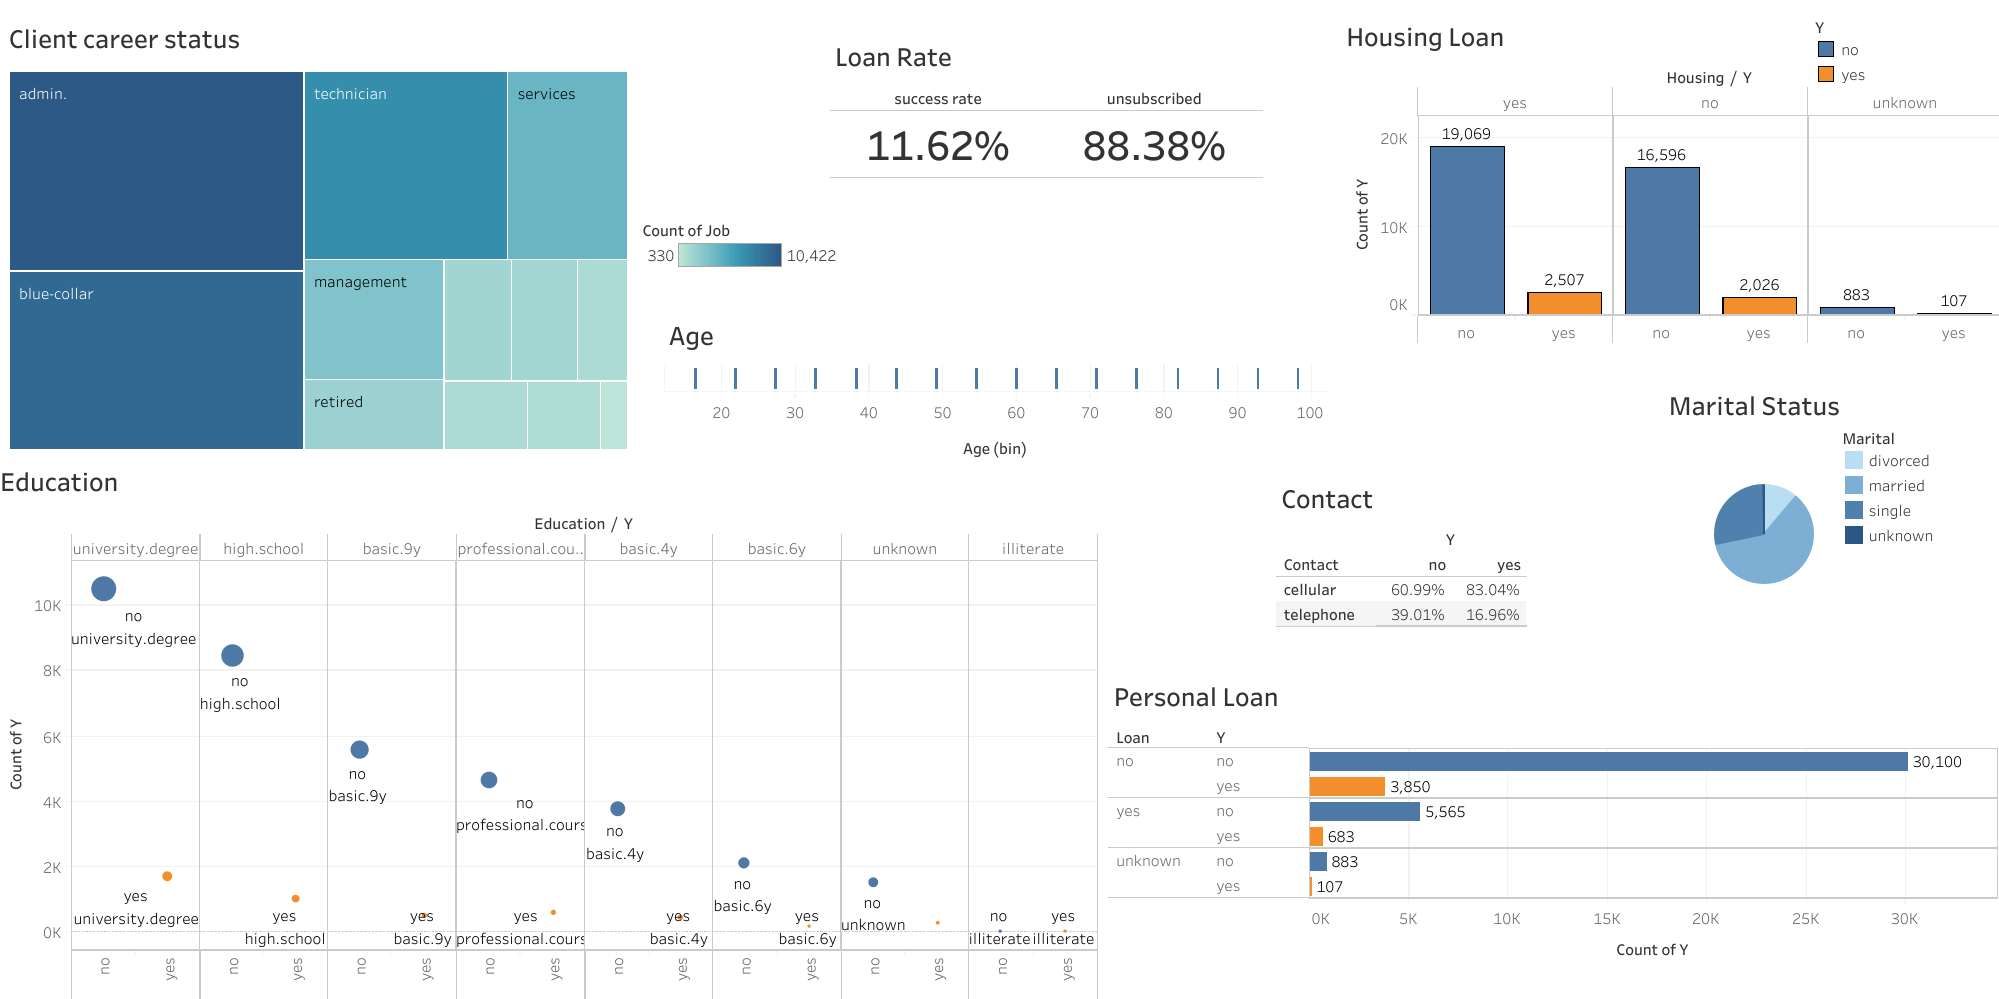

The page's visual inventory and layout, read from the dashboard file:
{"tool":"tableau","page":{"name":"Dashboard 1","canvas":[1600,800],"ordinal":0},"visuals":[{"type":"worksheet","title":"Sheet 1","mark":"Bar","rows":["y"],"cols":["housing","y"],"box":[1073,9,530,266]},{"type":"worksheet","title":"jobs","mark":"Automatic","box":[3,10,641,355]},{"type":"legend","title":"Sheet 1","param":"[federated.1gof4120ka4hed14km9ko1v4rcbb].[none:y:nk]","box":[1451,10,140,64]},{"type":"worksheet","title":"success rate","mark":"Automatic","box":[664,25,530,266]},{"type":"legend","title":"jobs","param":"[federated.0dqnr3m0pds8nb17ekh310dz25wu].[cnt:job:qk]","box":[497,165,160,88]},{"type":"worksheet","title":"Sheet 10","mark":"Automatic","rows":["y"],"cols":["Age (bin)"],"box":[531,248,530,266]},{"type":"legend","title":"Sheet 4","param":"[federated.1gof4120ka4hed14km9ko1v4rcbb].[none:marital:nk]","box":[1452,314,140,106]},{"type":"worksheet","title":"Sheet 5","mark":"Automatic","rows":["contact"],"cols":["y"],"box":[1021,378,530,266]}]}

Visuals, with their boxes in screenshot pixels (x1, y1, x2, y2), scaled from the page's 1600x800 canvas onto the 1999x999 screenshot:
"Sheet 1" worksheet (Bar marks): locate(1341, 11, 1998, 343)
"jobs" worksheet: locate(4, 12, 805, 456)
"Sheet 1" legend: locate(1813, 12, 1988, 92)
"success rate" worksheet: locate(830, 31, 1492, 363)
"jobs" legend: locate(621, 206, 821, 316)
"Sheet 10" worksheet: locate(663, 310, 1326, 642)
"Sheet 4" legend: locate(1814, 392, 1989, 524)
"Sheet 5" worksheet: locate(1276, 472, 1938, 804)
